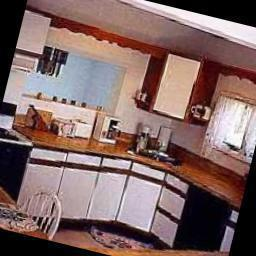Electrodomestico: (179, 188, 233, 251), (0, 106, 38, 190)
Lavaplatos: (129, 138, 191, 171)
